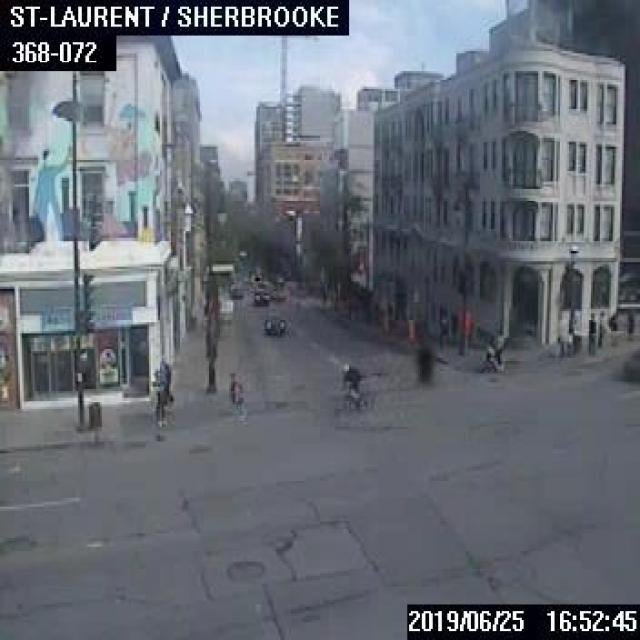construction: (406, 317, 413, 341)
cyclist: (335, 362, 370, 412)
pedestrian: (152, 356, 172, 426), (477, 325, 505, 372), (227, 369, 244, 411), (437, 309, 448, 350), (585, 310, 595, 351), (595, 309, 605, 346), (606, 310, 616, 342), (624, 308, 632, 337)
vehicle: (262, 311, 285, 336), (251, 282, 271, 304), (227, 284, 240, 298)
